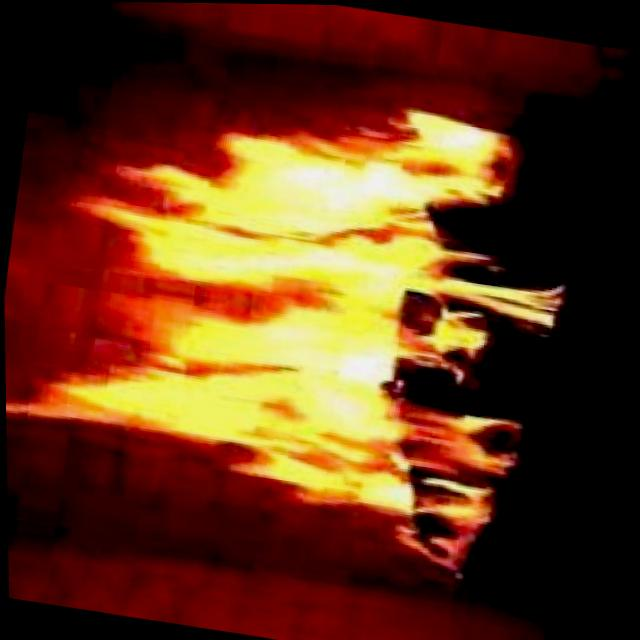Fire: (1, 45, 607, 591)
